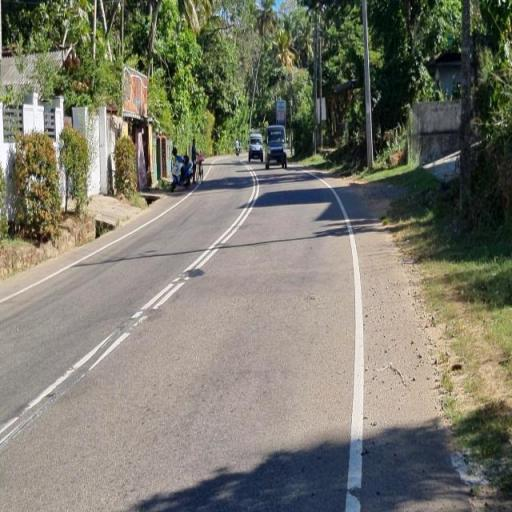double_white_line: (130, 168, 260, 329)
